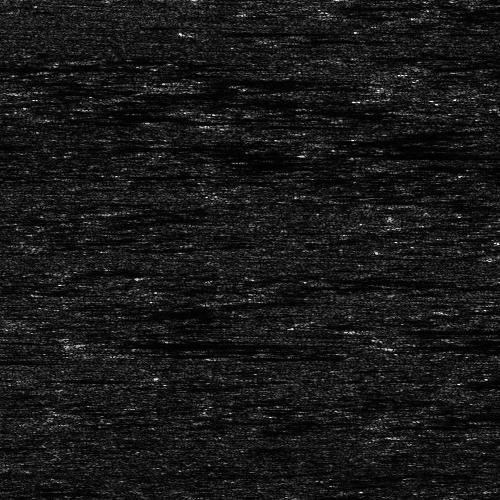rock: (176, 28, 229, 33), (355, 326, 396, 331), (90, 340, 131, 343)
shadow: (376, 326, 500, 331), (0, 63, 118, 68), (111, 340, 300, 343), (203, 28, 300, 33), (474, 418, 500, 421)
